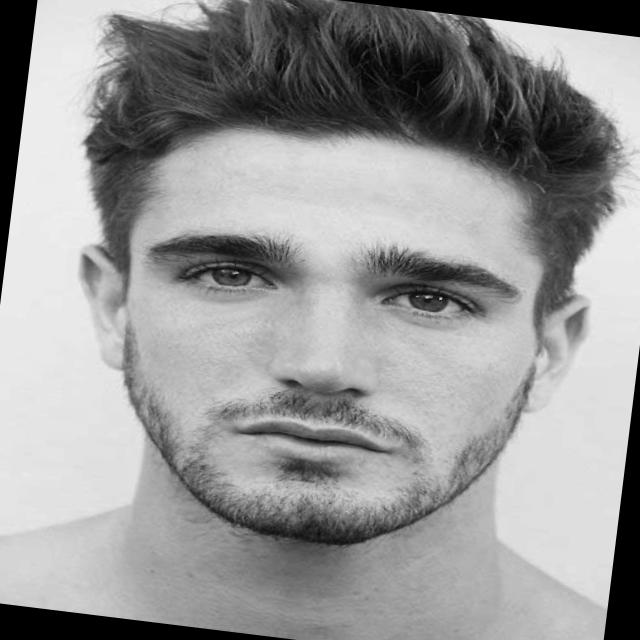face: (46, 0, 631, 575)
